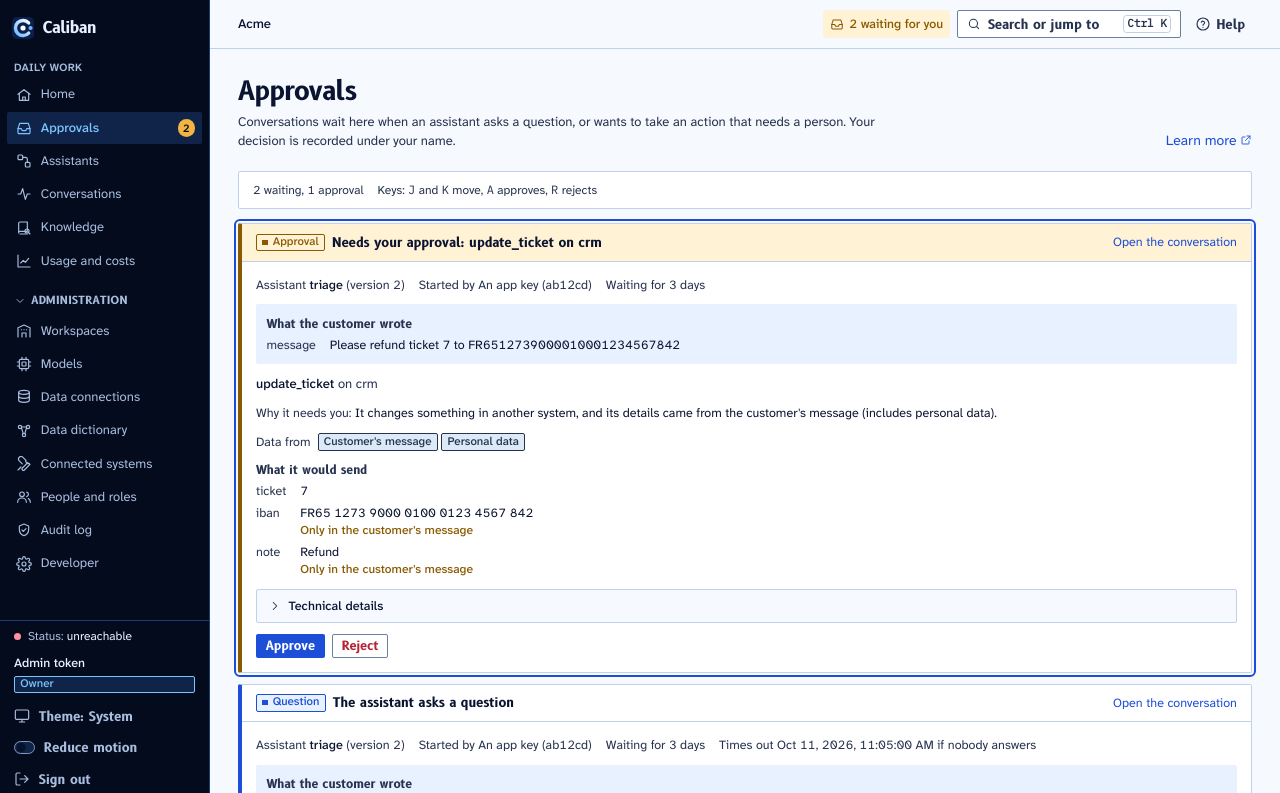
Test: InboxPage (Approvals) › reviews with the keyboard: J and K move, A approves, R rejects
This screenshot has width=1280, height=793.
Type keys "j"
(page scrolled)
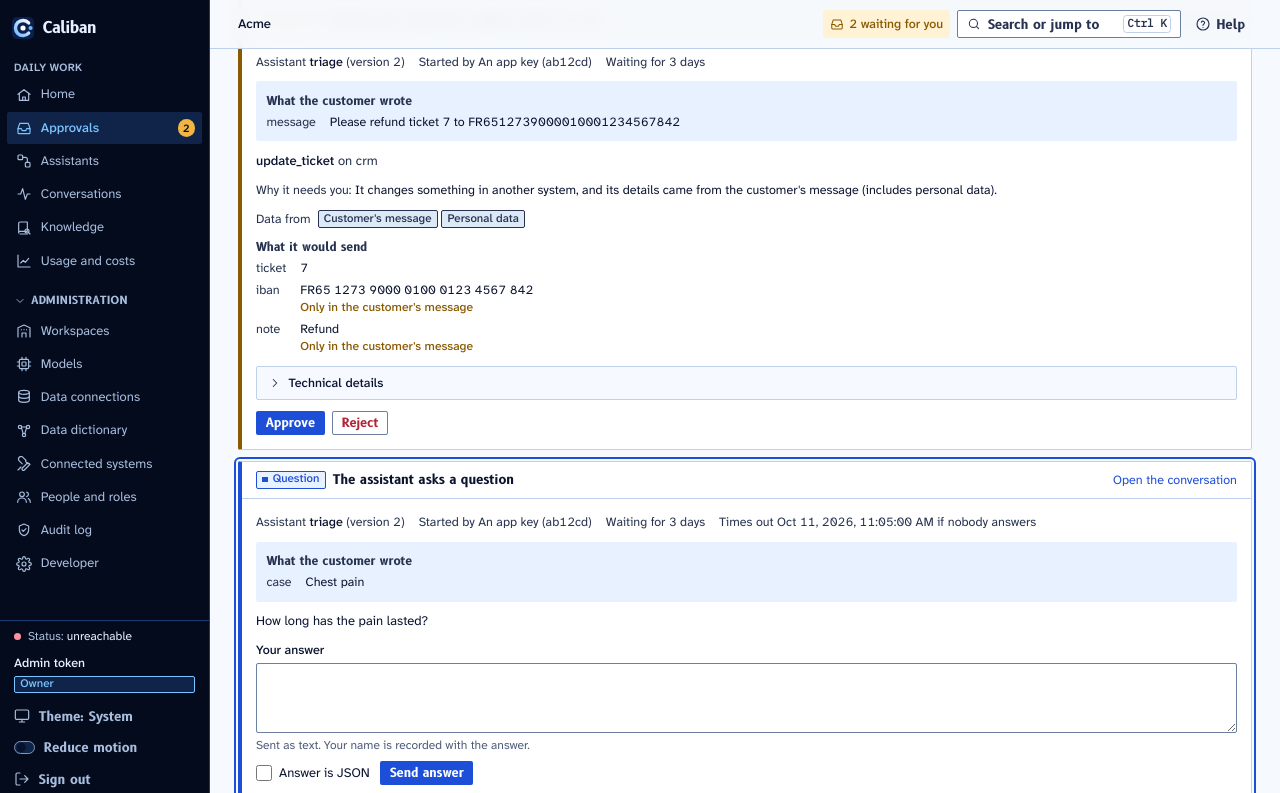
Type keys "k"
(page scrolled)
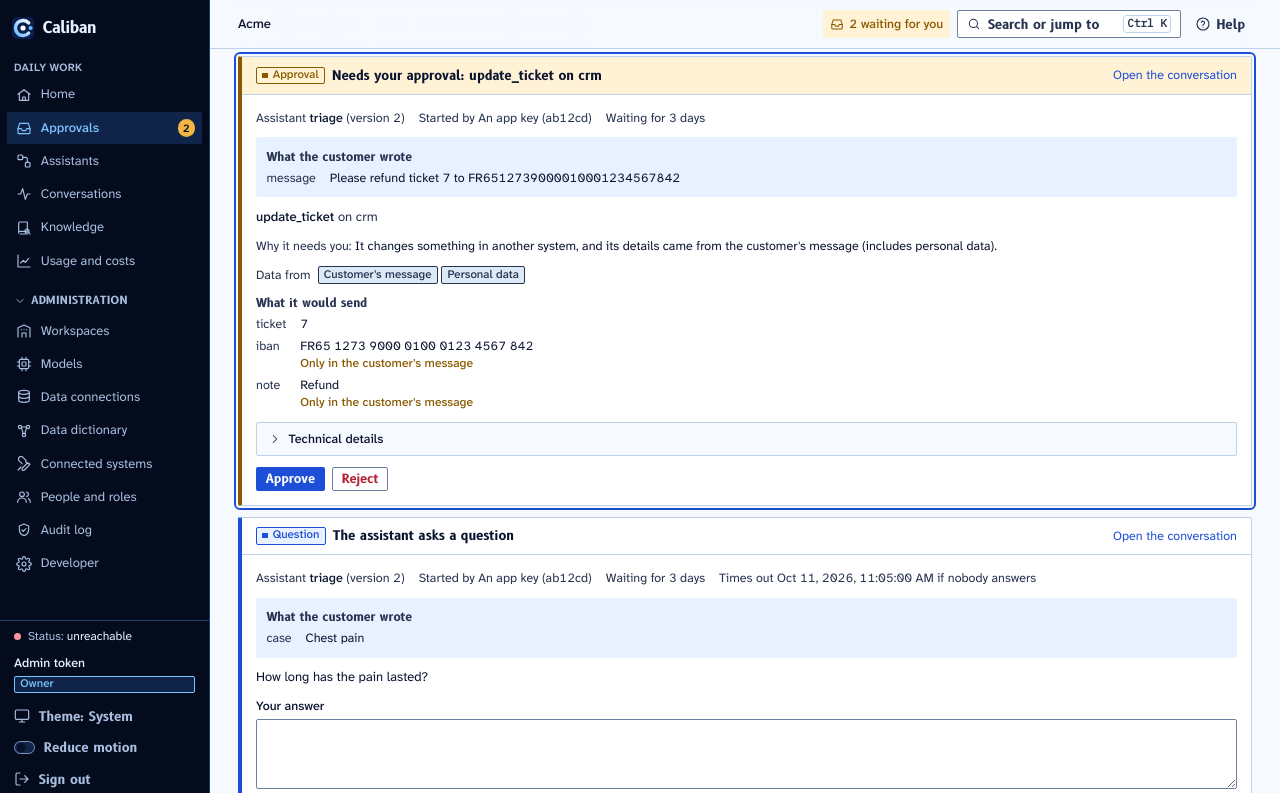
Type keys "a"
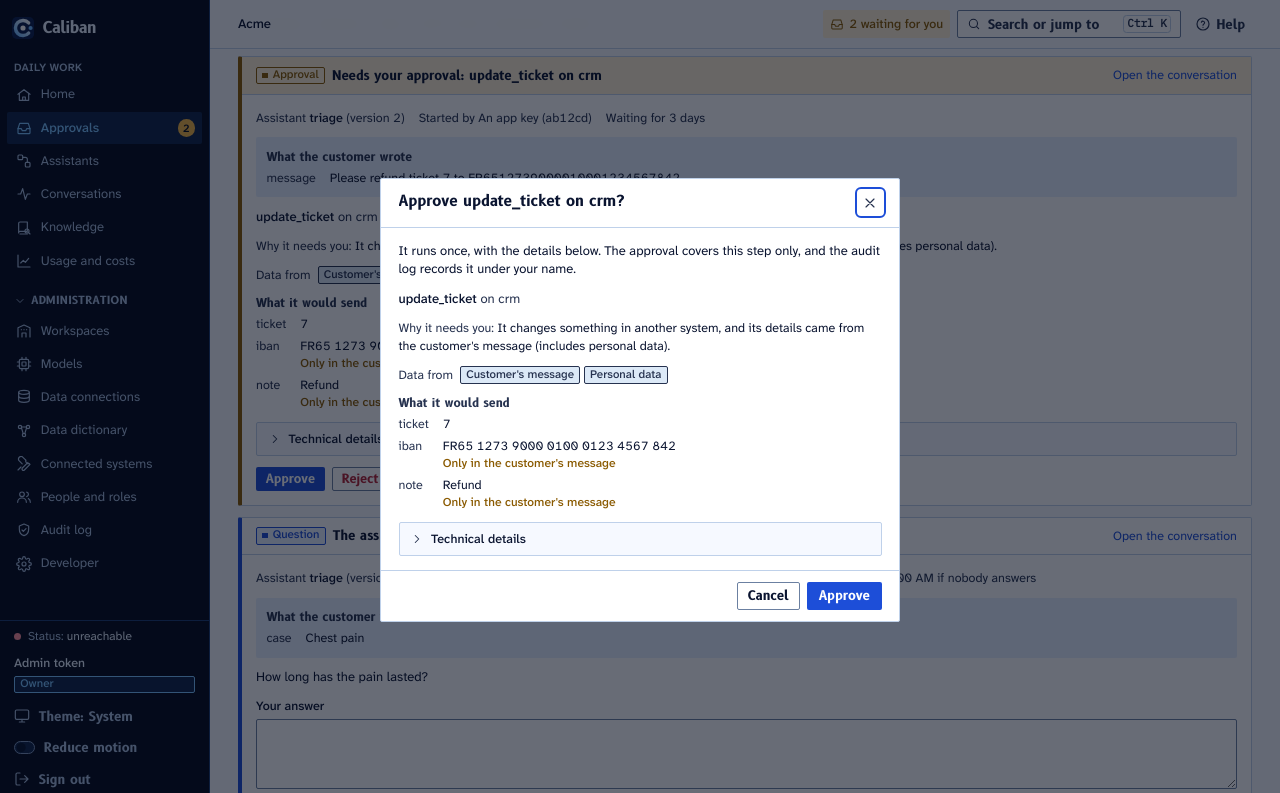
Click the button "Cancel". click: (768, 596)
box: [736,582,800,610]
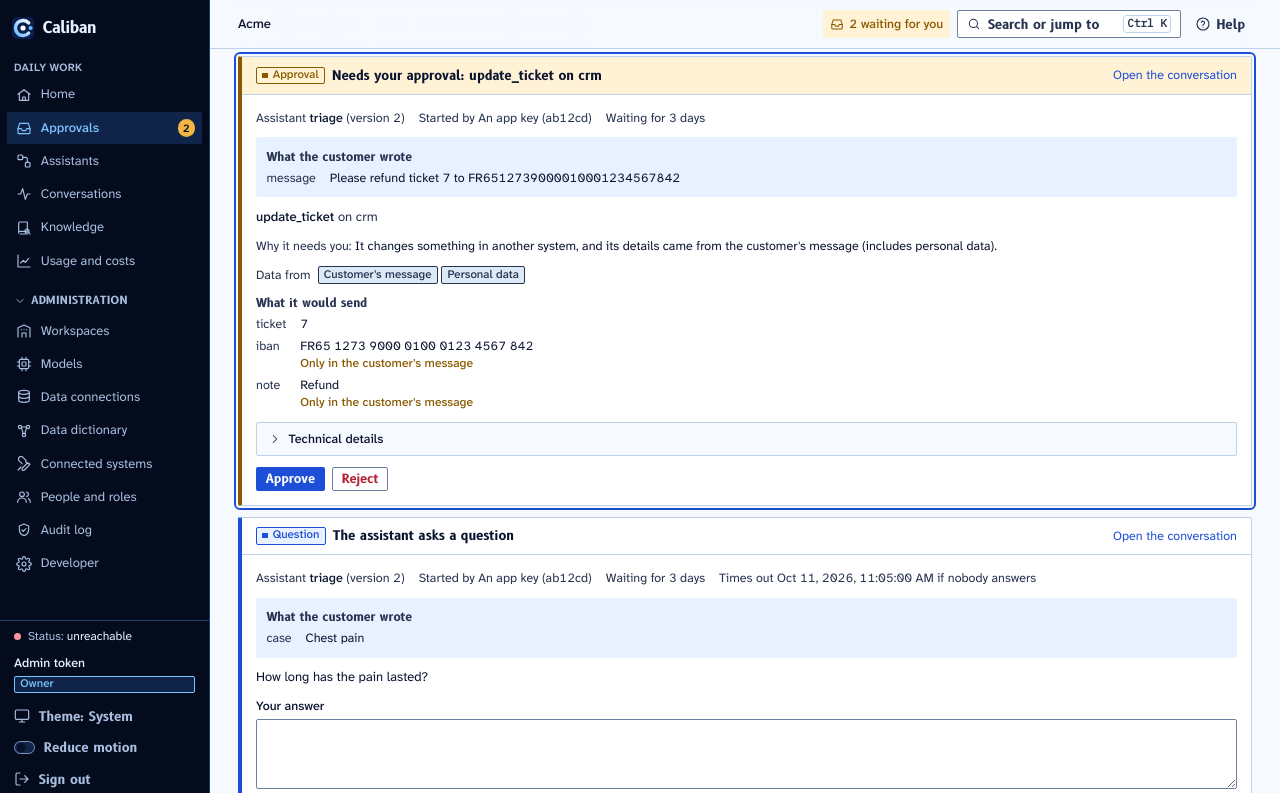
Type keys "r"
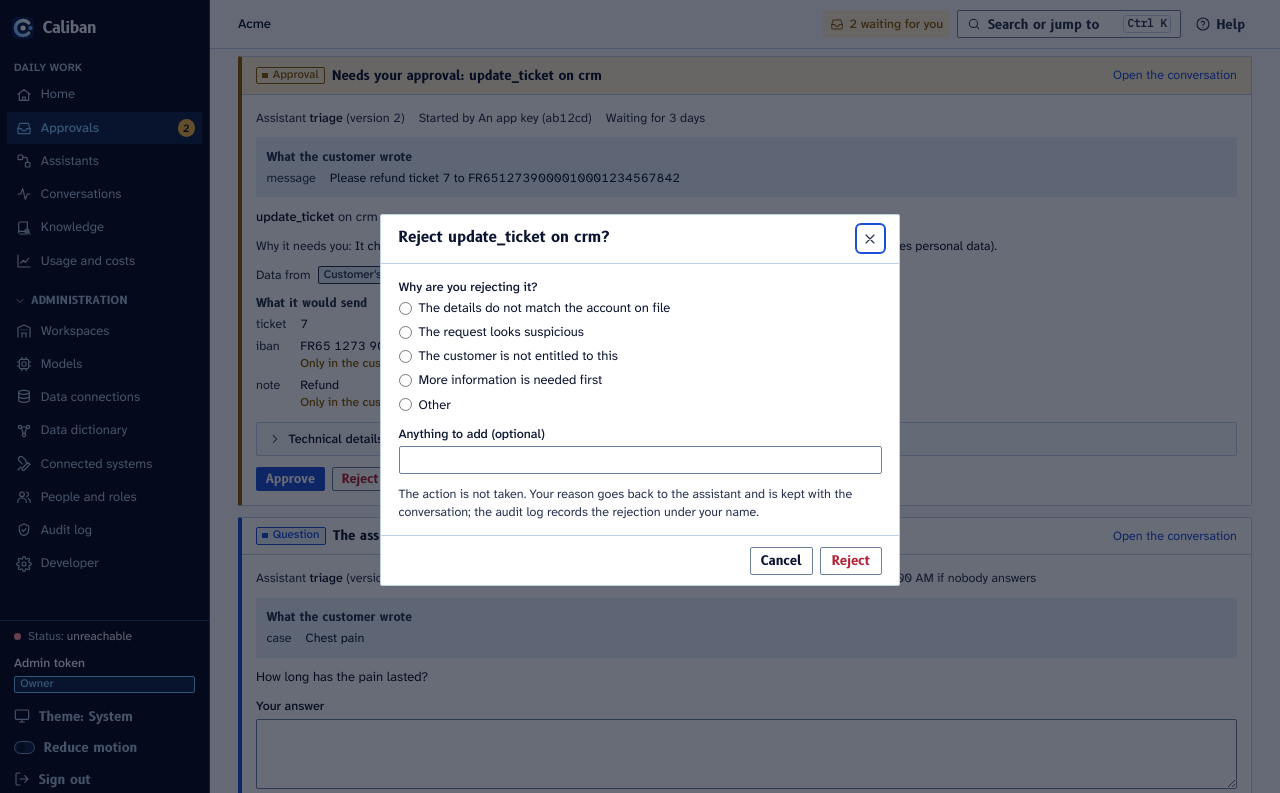
Expected: the dialog "Reject update_ticket on crm?" is shown, [380,214,900,586]
